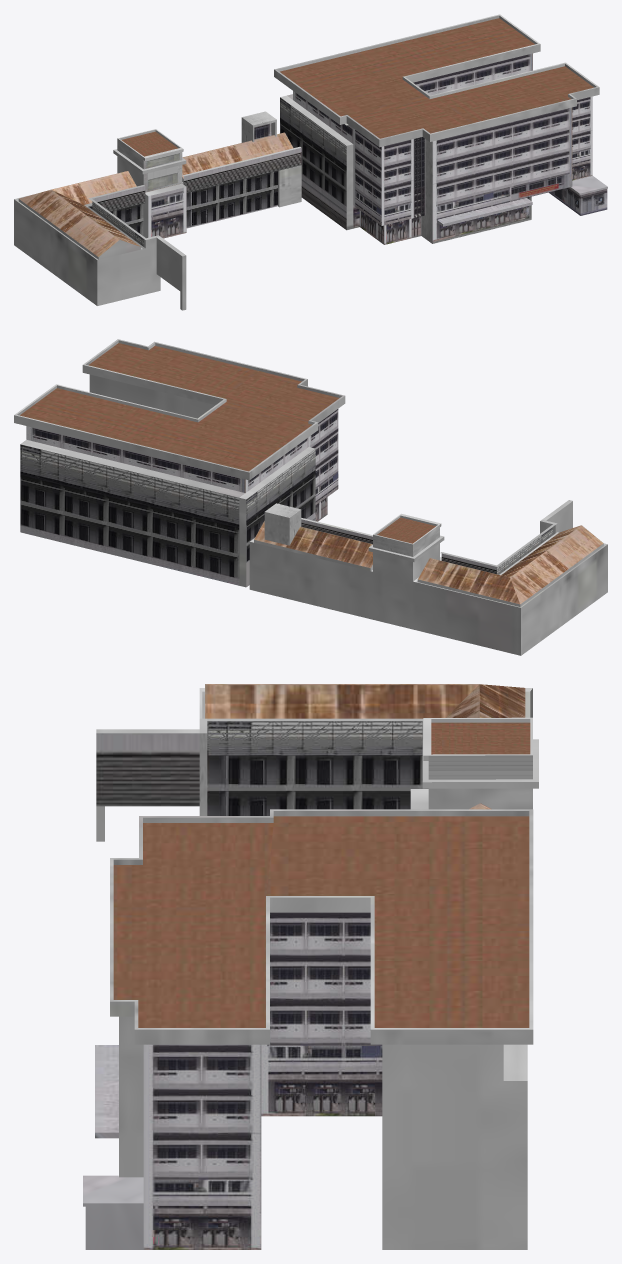
3 renders of one model, top to bottom at view 1: azimuth 30°, elevation 25°; view 2: azimuth 150°, elevation 25°; view 3: azimuth 270°, elevation 25°, orthographic. The views are drawn at different scales.
Visible parts, largest first — view 1: 5d8d8c2f4fec9608785f63c6; view 2: 5d8d8c2f4fec9608785f63c6; view 3: 5d8d8c2f4fec9608785f63c6.
Part boxes in pixels (x1,y1,x2,y2): 5d8d8c2f4fec9608785f63c6: (14, 14, 607, 310); 5d8d8c2f4fec9608785f63c6: (14, 339, 607, 655); 5d8d8c2f4fec9608785f63c6: (83, 684, 538, 1249).
Bounding box in the file's own units: 87.4 × 19.29 × 35.51.
Materials: 1 (1 with a texture image).
